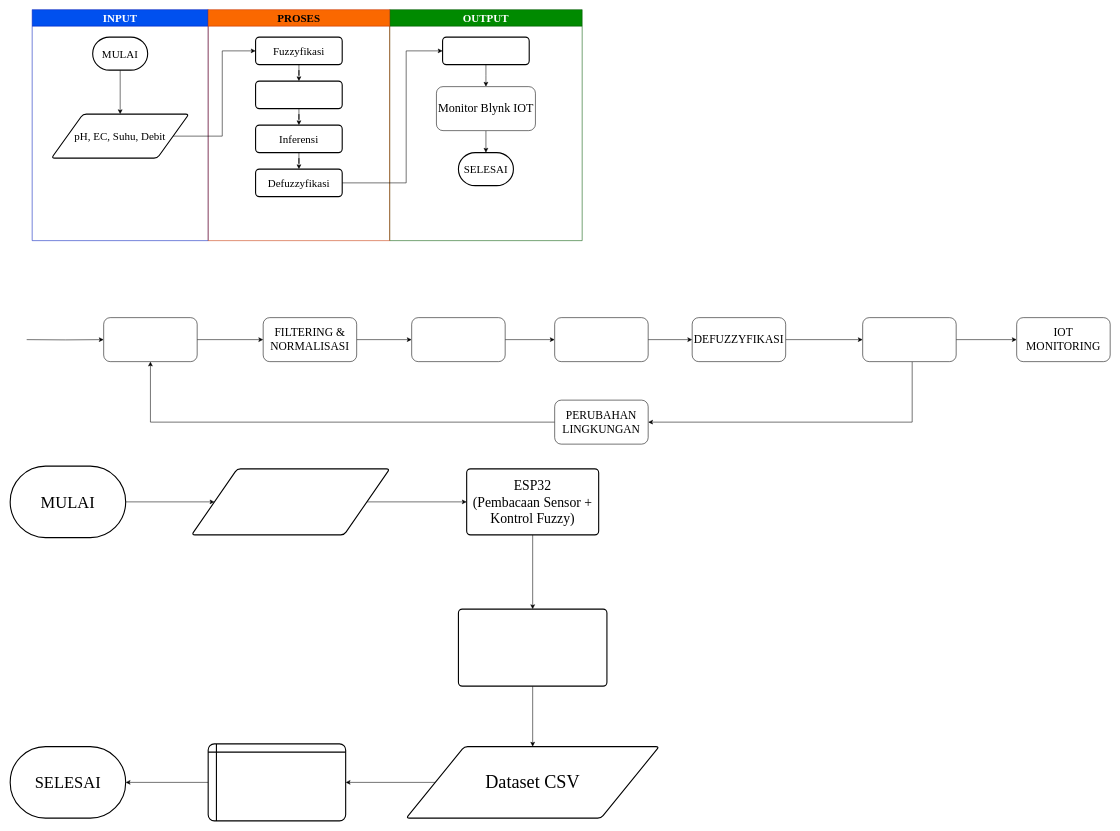
Some shapes in this 1120 by 831 pixel diagram are drawn without their labels. Here are the shapes that lost their labels. From the top down, the centre of each, then its label:
the point at 485,50: Kontrol Pompa
the point at 298,94: Rule Based
the point at 150,339: INPUT SENSOR
the point at 458,339: FUZZIFIKASI
the point at 601,339: RULE ENGINE
the point at 909,339: AKTUATOR POMPA
the point at 290,501: SENSOR (pH, EC, Suhu, Debit)
the point at 532,647: Log Blynk IoT / SERIAL MONITOR
the point at 276,782: INTERNAL STORAGE
